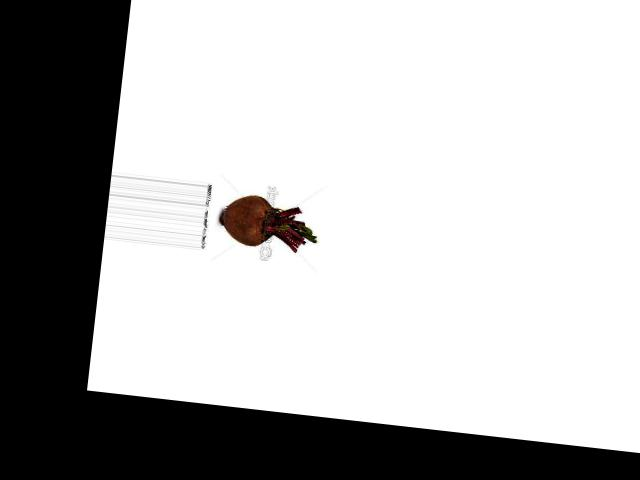beet: (217, 191, 320, 254)
